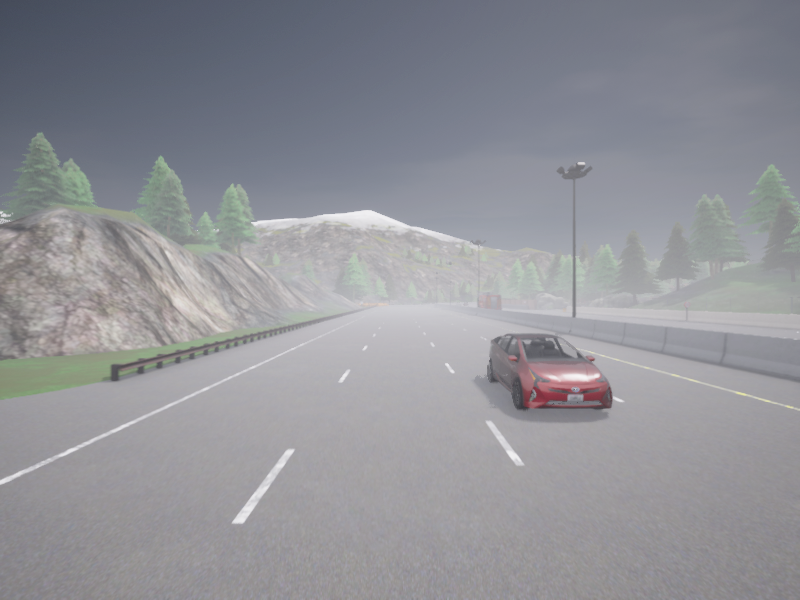vehicle: (488, 333, 612, 409), (479, 292, 501, 309), (463, 303, 468, 305), (455, 303, 460, 305)
